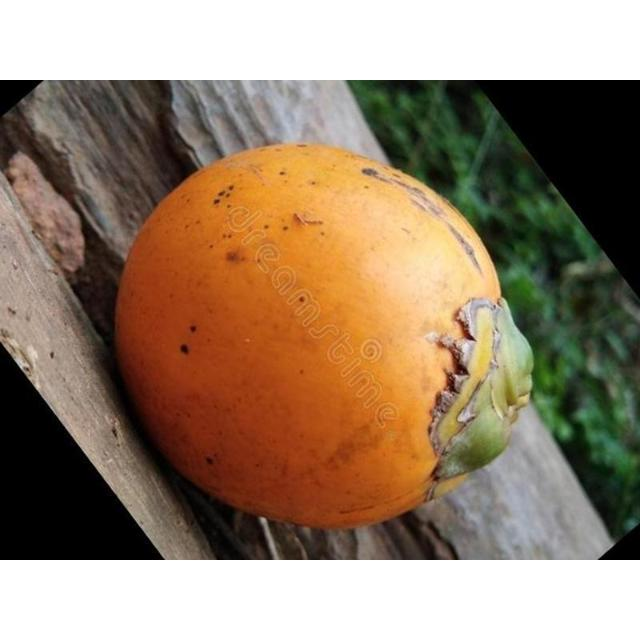good: (112, 144, 534, 532)
